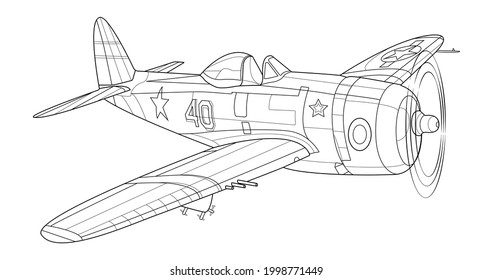airplane: (30, 16, 461, 240)
